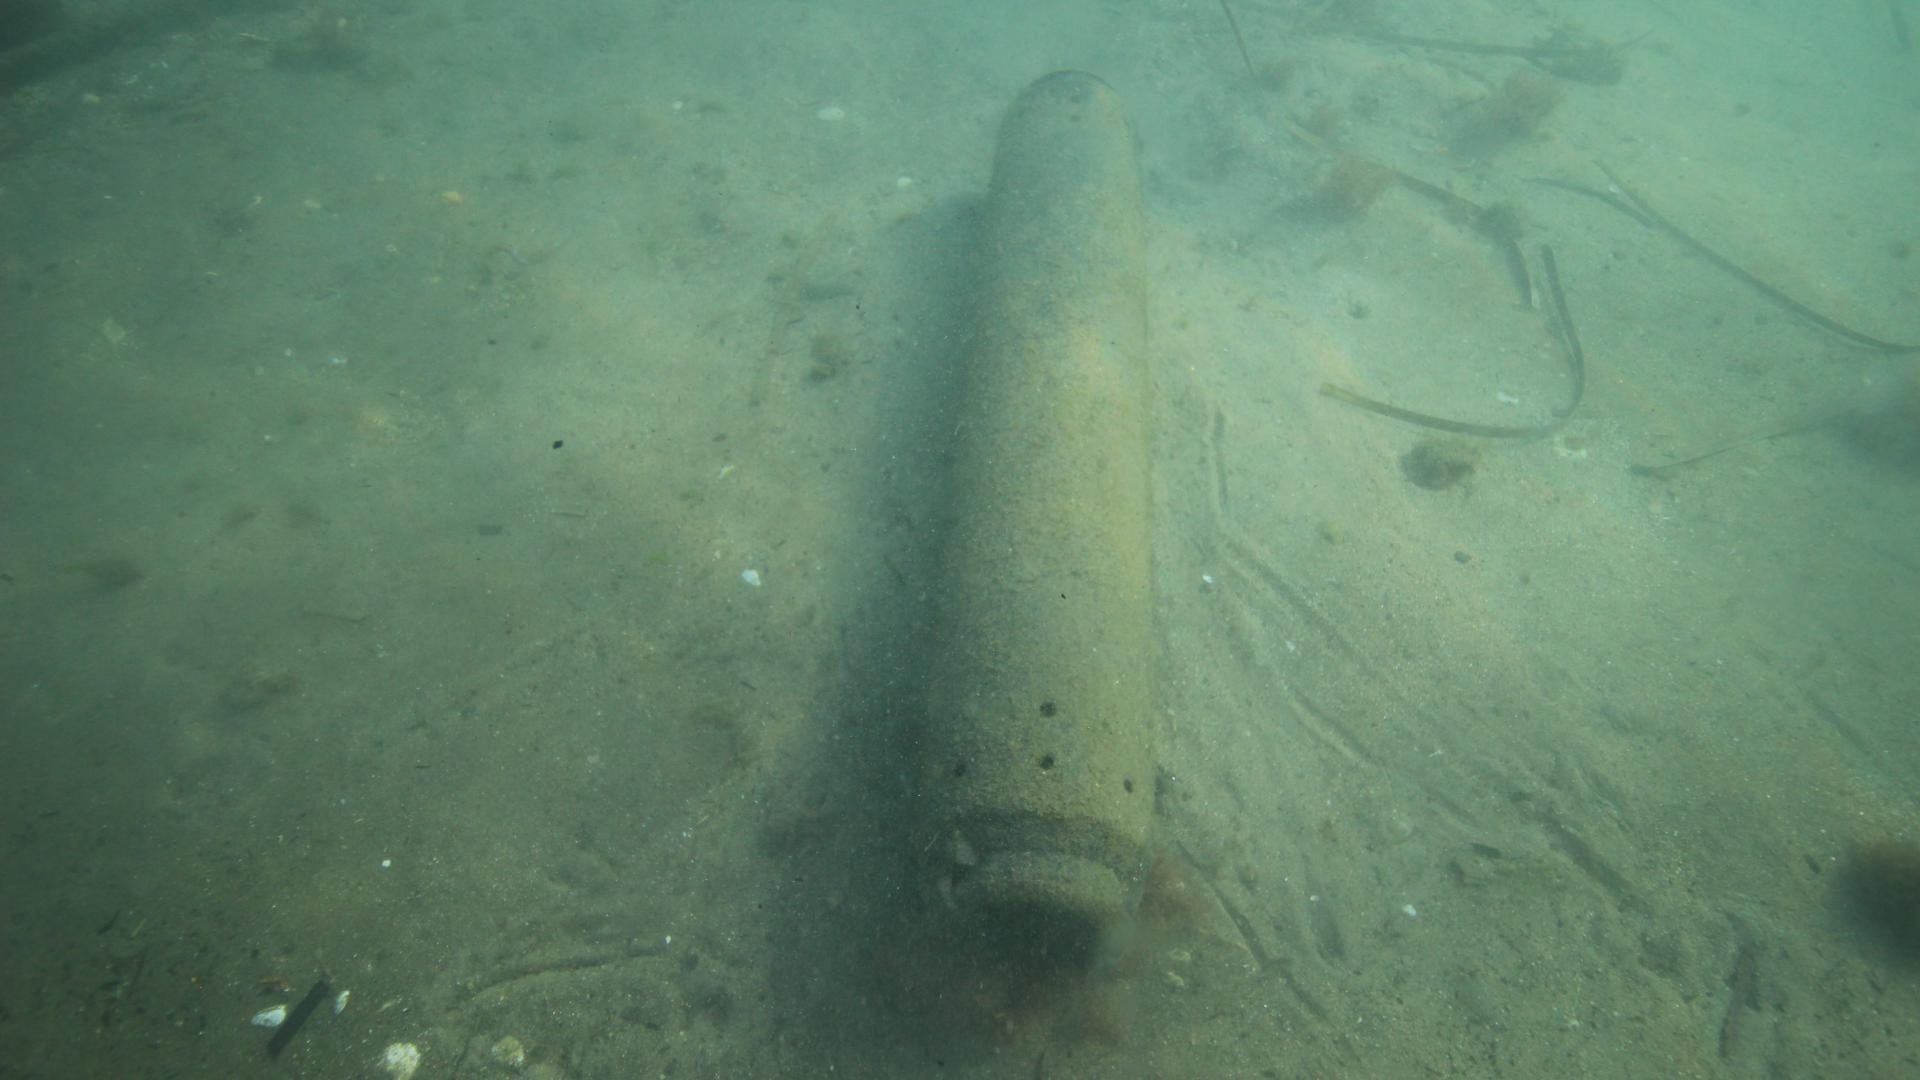eel fish trap: (899, 65, 1160, 985)
